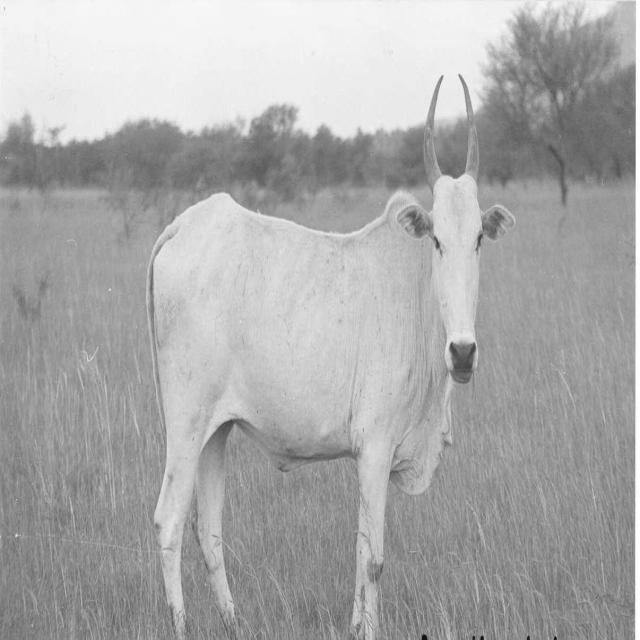Cow: (144, 72, 516, 638)
